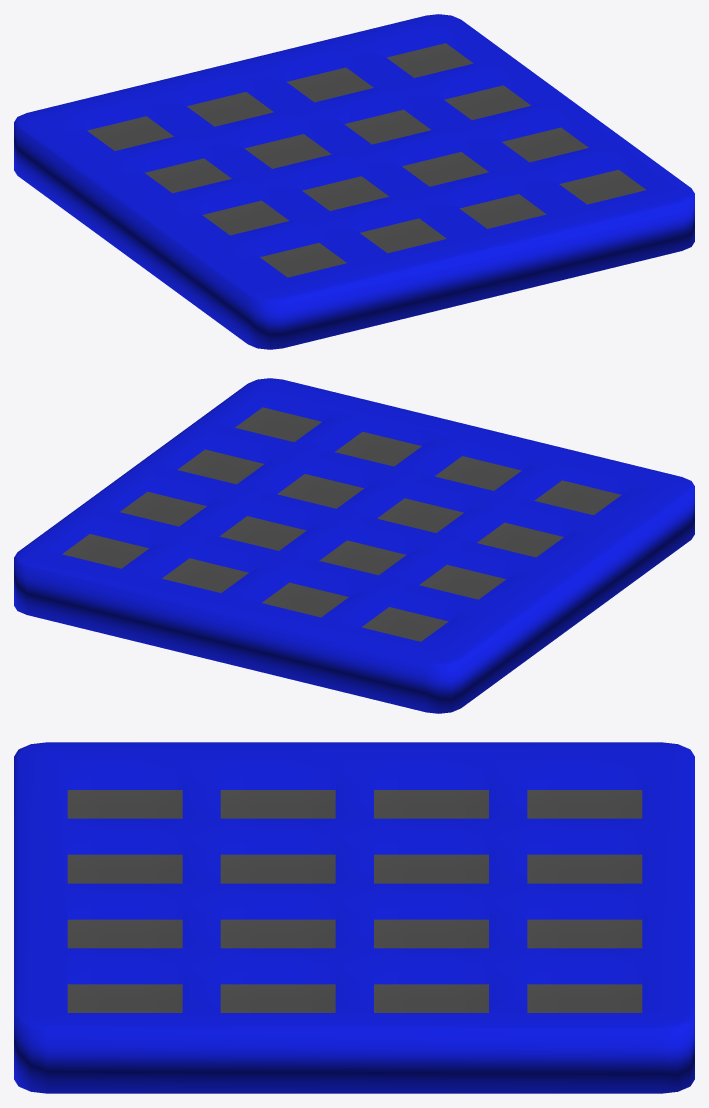
The model's file is solar.fbx.
3 views of the same model, one above another, from view 1: azimuth 30°, elevation 25°; view 2: azimuth 150°, elevation 25°; view 3: azimuth 270°, elevation 25° (orthographic). The views are drawn at different scales.
Visible parts, largest first — view 1: Cube.003; view 2: Cube.003; view 3: Cube.003.
Part boxes in pixels (x1,y1,x2,y2): Cube.003: [14, 14, 694, 349]; Cube.003: [14, 378, 694, 713]; Cube.003: [14, 742, 694, 1093].
Bounding box in the file's own units: 62.88 × 7.01 × 62.88.
